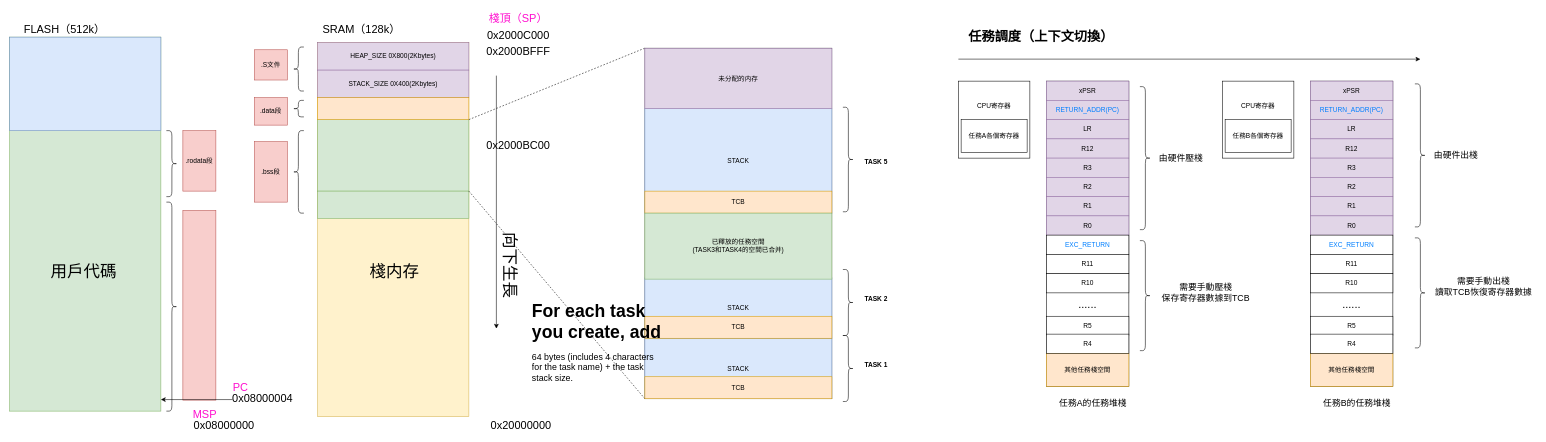
Image size: 1546x442. Some labels were removed from this diagram. The shapes that lost their labels are listed below. From the top down, each one's centre as x and y in pixels, then its label:
At (393,108): ".data段其他初始化可讀寫數據".
At (393,155): "FreeRTOS_HEAP_SIZE 15Kbytes(heap4)".
At (393,205): "other undefine data".
At (199,305): ".text段".
